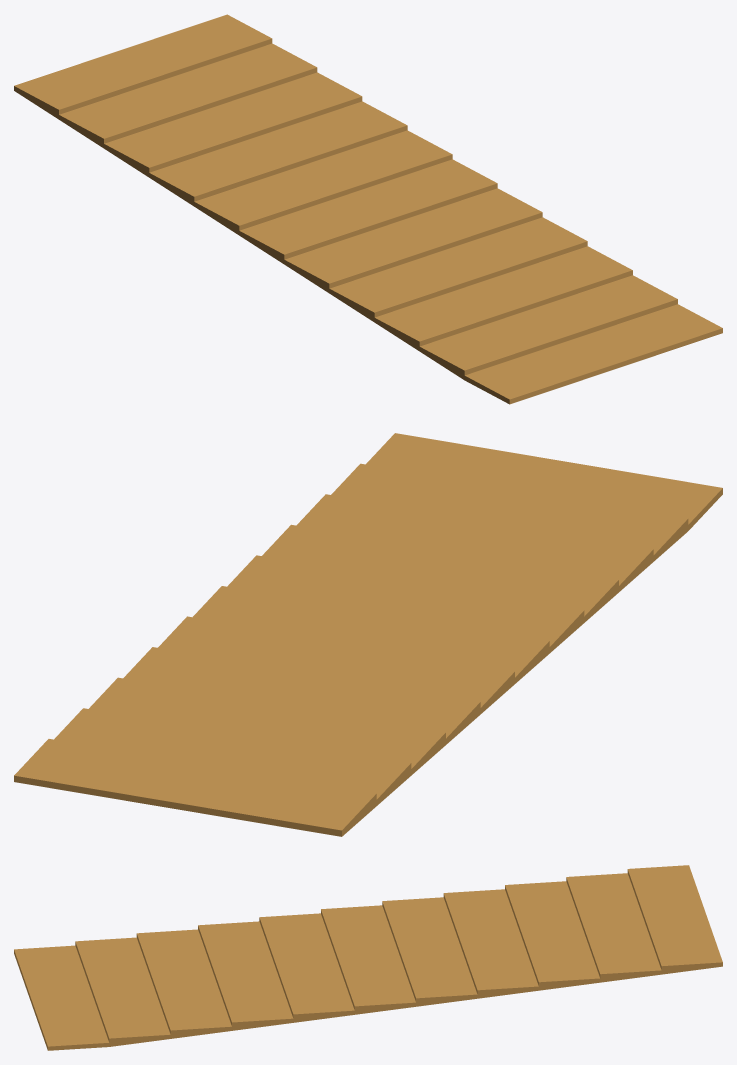
3 views of the same model, one above another, from view 1: azimuth 30°, elevation 25°; view 2: azimuth 150°, elevation 25°; view 3: azimuth 270°, elevation 25° (orthographic). The views are drawn at different scales.
Visible parts, largest first — view 1: StraightStair001; view 2: StraightStair001; view 3: StraightStair001.
Part boxes in pixels (left/top/right/bottom): StraightStair001: left=14, top=14, right=722, bottom=404; StraightStair001: left=14, top=433, right=722, bottom=836; StraightStair001: left=14, top=865, right=722, bottom=1050.
Size of the model in its own units: 3.54 by 0.55 by 7.62.
